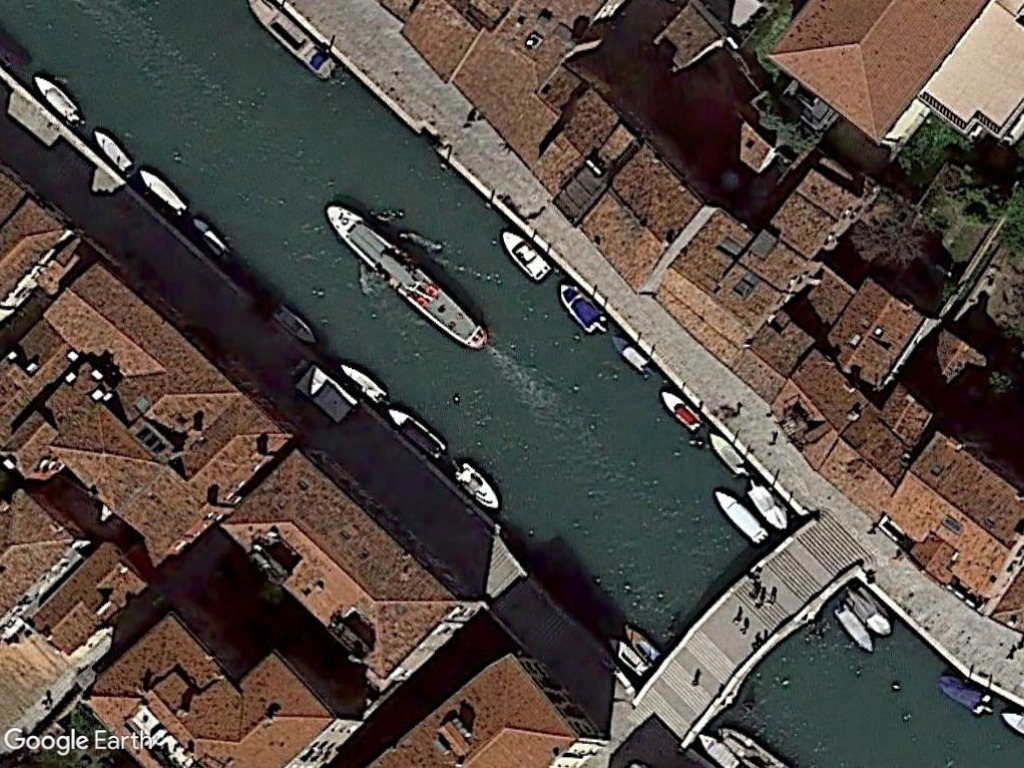boat: (320, 200, 491, 352), (245, 0, 340, 83), (382, 402, 448, 462), (494, 222, 552, 283), (708, 488, 769, 545), (555, 276, 611, 336), (136, 163, 190, 219), (449, 458, 503, 512), (935, 670, 993, 720), (31, 71, 84, 125), (828, 600, 879, 656), (336, 359, 392, 408), (270, 300, 321, 349), (656, 387, 705, 435), (707, 427, 749, 481), (609, 331, 655, 377), (620, 620, 664, 668), (90, 127, 133, 174)
